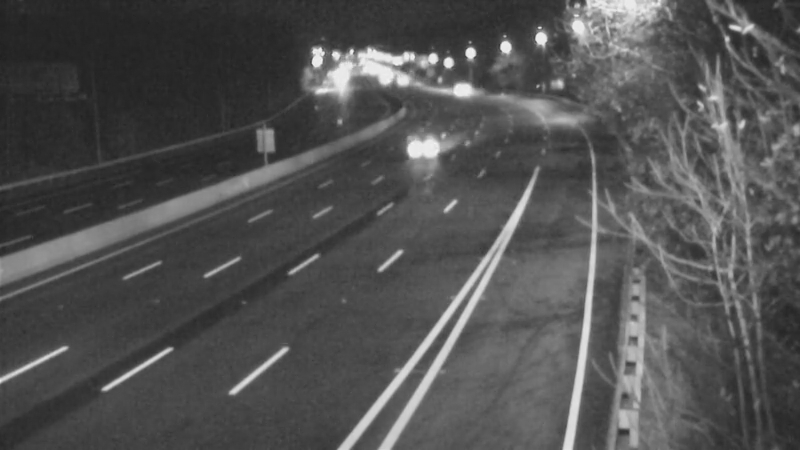vehicle: (379, 54, 429, 104), (434, 63, 484, 113), (394, 123, 444, 173)
